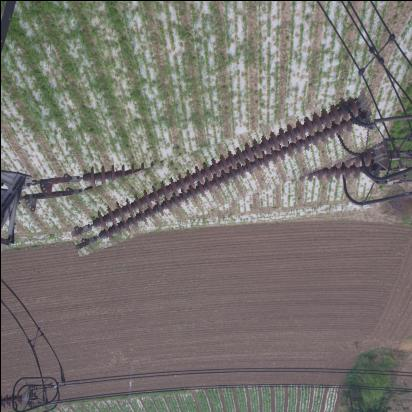insulator: (59, 117, 383, 231)
